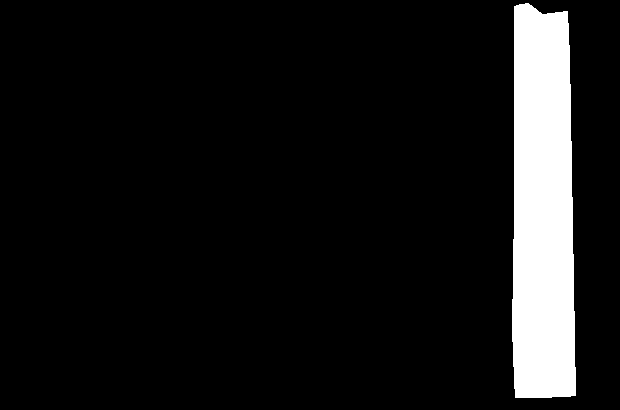type3s: (509, 2, 580, 400)
